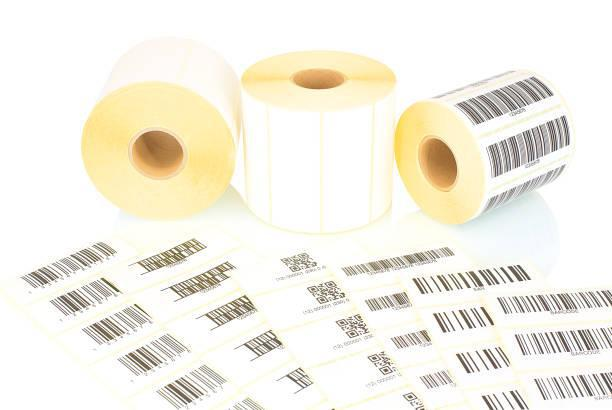Finder pattern: (378, 364, 396, 379), (401, 391, 419, 404), (345, 328, 361, 340), (315, 294, 330, 306), (323, 280, 339, 291), (335, 317, 351, 328), (279, 255, 294, 266), (367, 353, 382, 364), (287, 264, 303, 274), (308, 283, 321, 294), (297, 251, 310, 261), (354, 313, 366, 322)
